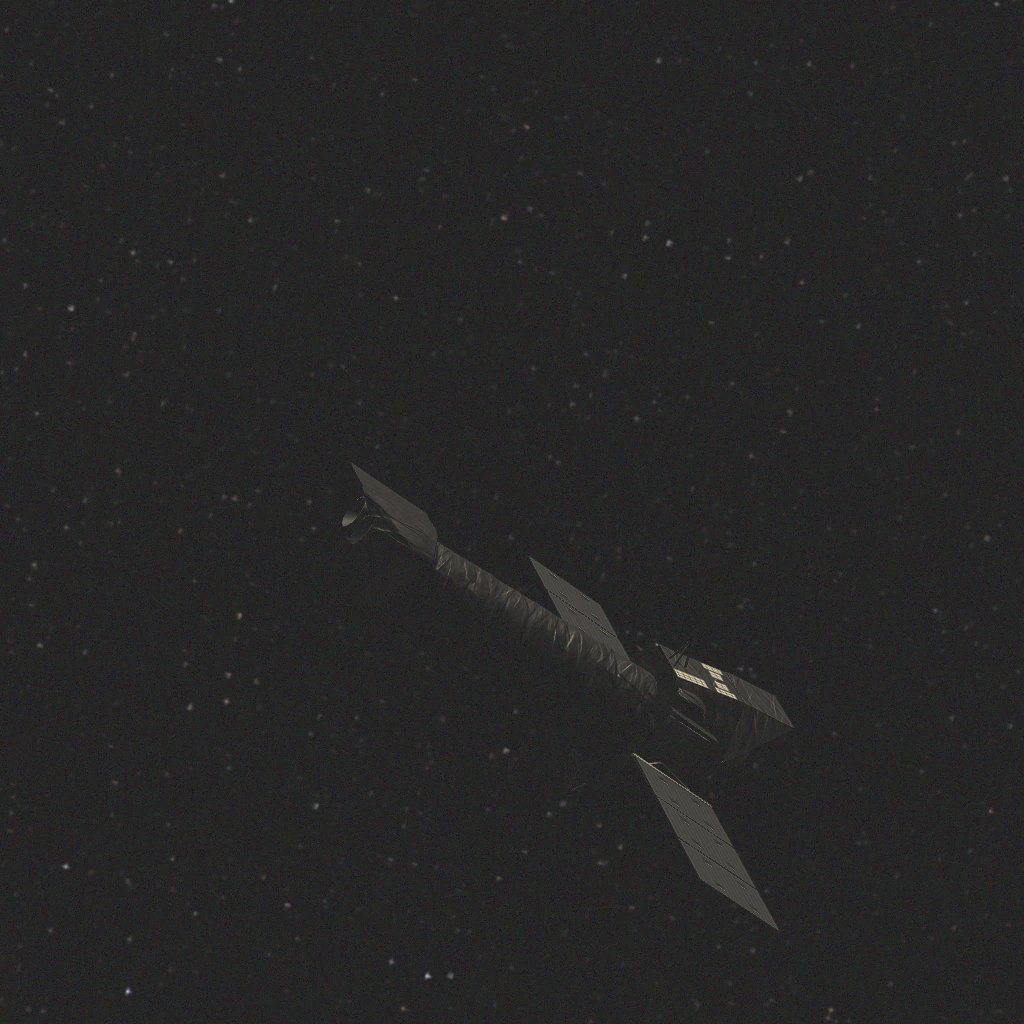xmm_newton: (326, 463, 794, 934)
